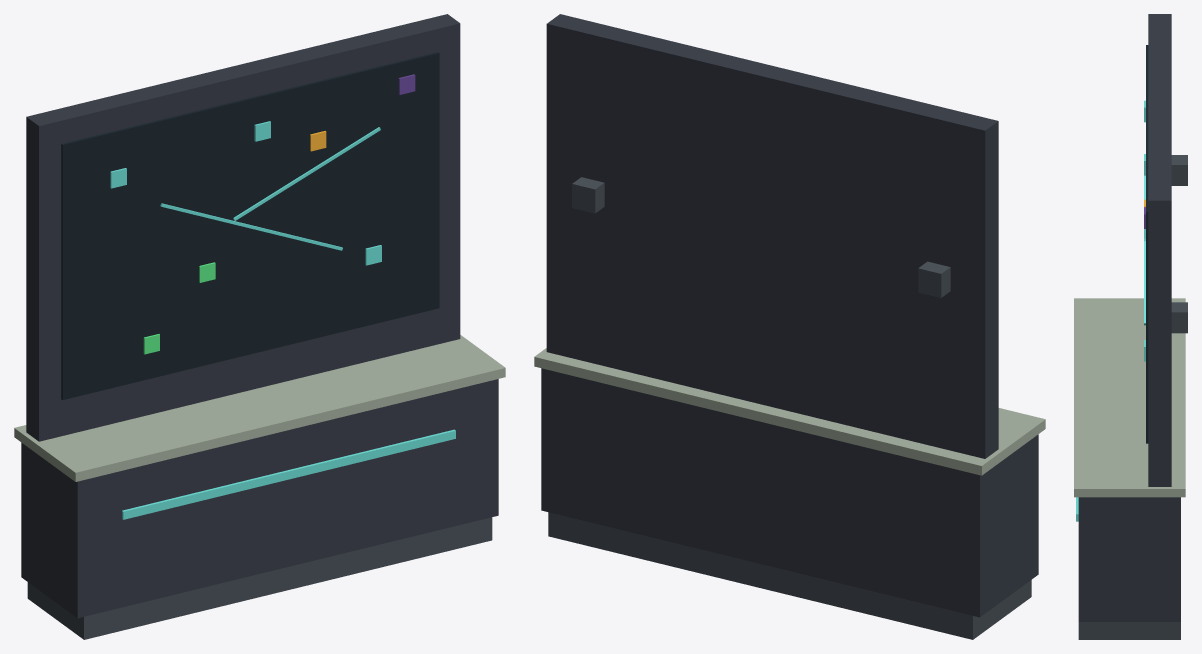
File: GV_ShipNavScreen_01.glb
The picture shows the model from 3 angles, left to right: view 1: azimuth 30°, elevation 25°; view 2: azimuth 150°, elevation 25°; view 3: azimuth 270°, elevation 25°; orthographic projection. The views are drawn at different scales.
Visible parts, largest first — view 1: GV_ShipNavScreen_01; view 2: GV_ShipNavScreen_01; view 3: GV_ShipNavScreen_01.
Boxes of the visible parts, x1,y1,x2,y2 form: GV_ShipNavScreen_01: (14, 14, 505, 639); GV_ShipNavScreen_01: (534, 14, 1045, 639); GV_ShipNavScreen_01: (1074, 14, 1187, 639).
Size of the model in its own units: 1.94 by 2.1 by 0.49.
Materials: 1 (1 with a texture image).
